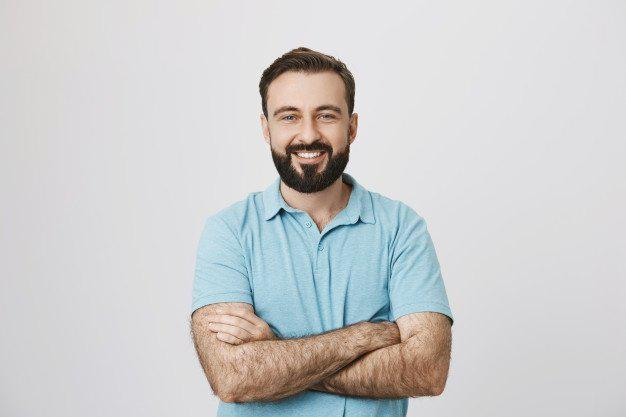Sober: (269, 80, 346, 183)
